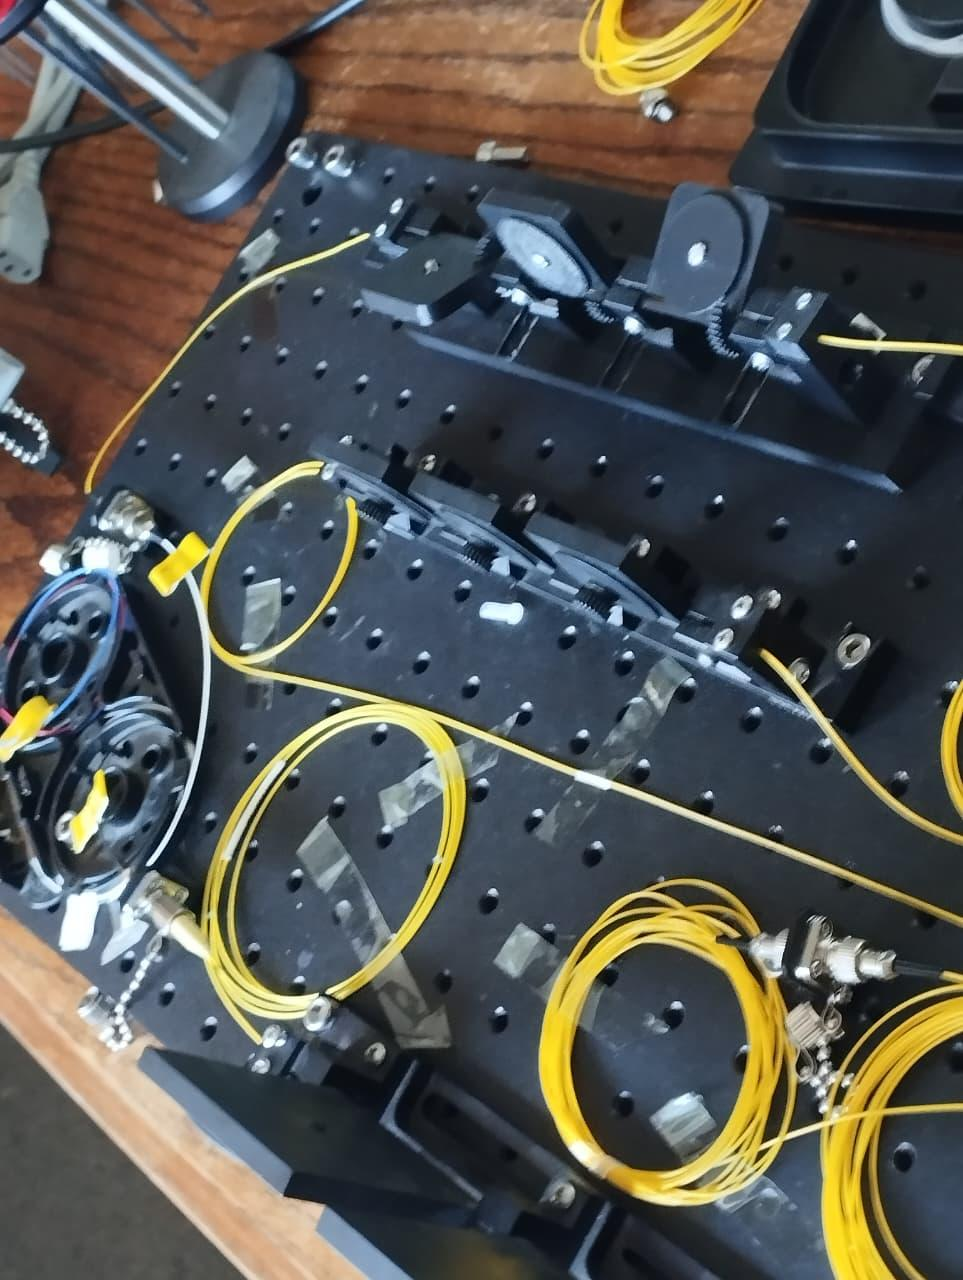fiber_cable: (173, 687, 495, 1023), (528, 858, 813, 1215), (155, 460, 403, 683), (808, 928, 963, 1280)
paddle_polarization_controller: (340, 185, 963, 502), (312, 445, 903, 765), (147, 990, 737, 1280)
